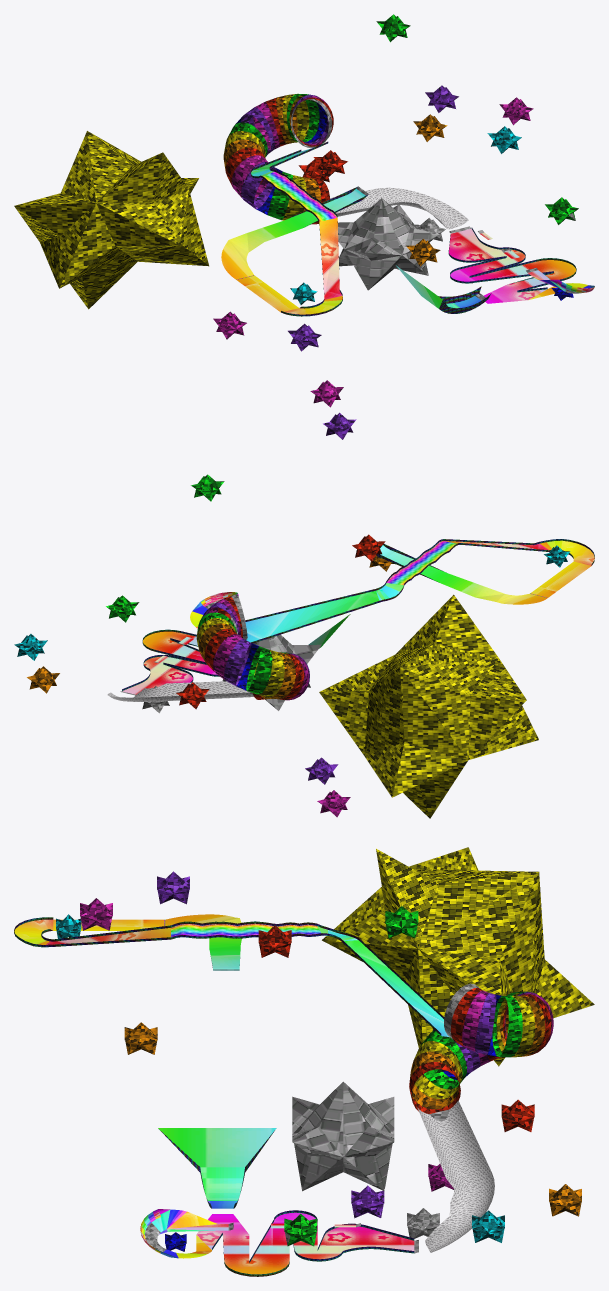
3 views of the same model, one above another, from view 1: azimuth 30°, elevation 25°; view 2: azimuth 150°, elevation 25°; view 3: azimuth 270°, elevation 25° (orthographic). The views are drawn at different scales.
Parts seen in each view (by area): view 1: Course_Model-SKP--Yellowstar, Course_Model-SKP--normal, Course_Model-SKP--silverstar, Course_Model-SKP--Wall, Course_Model-SKP--greenstar, Course_Model-SKP--purplestar, Course_Model-SKP--magentastar, Course_Model-SKP--Orangestar, Course_Model-SKP--Redstar, Course_Model-SKP--Road, Course_Model-SKP--norm, Course_Model-SKP--turqousestar (+1 smaller); view 2: Course_Model-SKP--Yellowstar, Course_Model-SKP--normal, Course_Model-SKP--Wall, Course_Model-SKP--Redstar, Course_Model-SKP--greenstar, Course_Model-SKP--purplestar, Course_Model-SKP--magentastar, Course_Model-SKP--Orangestar, Course_Model-SKP--Road, Course_Model-SKP--silverstar, Course_Model-SKP--turqousestar, Course_Model-SKP--norm; view 3: Course_Model-SKP--Yellowstar, Course_Model-SKP--normal, Course_Model-SKP--silverstar, Course_Model-SKP--Road, Course_Model-SKP--Wall, Course_Model-SKP--greenstar, Course_Model-SKP--Redstar, Course_Model-SKP--Orangestar, Course_Model-SKP--purplestar, Course_Model-SKP--magentastar, Course_Model-SKP--turqousestar, Course_Model-SKP--norm (+1 smaller).
Part boxes in pixels (x1,y1,x2,y2): Course_Model-SKP--Yellowstar: (14,94,309,309); Course_Model-SKP--normal: (221,148,594,314); Course_Model-SKP--silverstar: (291,99,583,300); Course_Model-SKP--Wall: (251,141,576,316); Course_Model-SKP--greenstar: (228,14,578,224); Course_Model-SKP--purplestar: (240,85,458,351); Course_Model-SKP--magentastar: (213,96,533,339); Course_Model-SKP--Orangestar: (223,95,447,266); Course_Model-SKP--Redstar: (225,97,347,224); Course_Model-SKP--Road: (330,187,468,229); Course_Model-SKP--norm: (263,172,337,221); Course_Model-SKP--turqousestar: (290,126,521,304); Course_Model-SKP--Yellowstar: (196,594,538,818); Course_Model-SKP--normal: (122,540,594,694); Course_Model-SKP--Wall: (122,539,594,690); Course_Model-SKP--Redstar: (176,534,385,709); Course_Model-SKP--greenstar: (106,474,291,694); Course_Model-SKP--purplestar: (203,412,356,784); Course_Model-SKP--magentastar: (209,380,350,817); Course_Model-SKP--Orangestar: (27,555,395,699); Course_Model-SKP--Road: (107,681,253,701); Course_Model-SKP--silverstar: (120,594,321,713); Course_Model-SKP--turqousestar: (14,545,570,660); Course_Model-SKP--norm: (386,541,456,585); Course_Model-SKP--Yellowstar: (322,847,594,1098); Course_Model-SKP--normal: (14,914,449,1274); Course_Model-SKP--silverstar: (144,969,480,1253); Course_Model-SKP--Road: (417,1100,494,1252); Course_Model-SKP--Wall: (14,917,444,1276); Course_Model-SKP--greenstar: (284,906,526,1246); Course_Model-SKP--Redstar: (258,925,551,1131); Course_Model-SKP--Orangestar: (124,995,581,1216); Course_Model-SKP--purplestar: (157,871,536,1218); Course_Model-SKP--magentastar: (80,898,553,1191); Course_Model-SKP--turqousestar: (56,914,504,1242); Course_Model-SKP--norm: (171,924,320,936).
Bounding box in the file's own units: 140944 × 80088 × 111583.
Materials: 15 (15 with a texture image).
